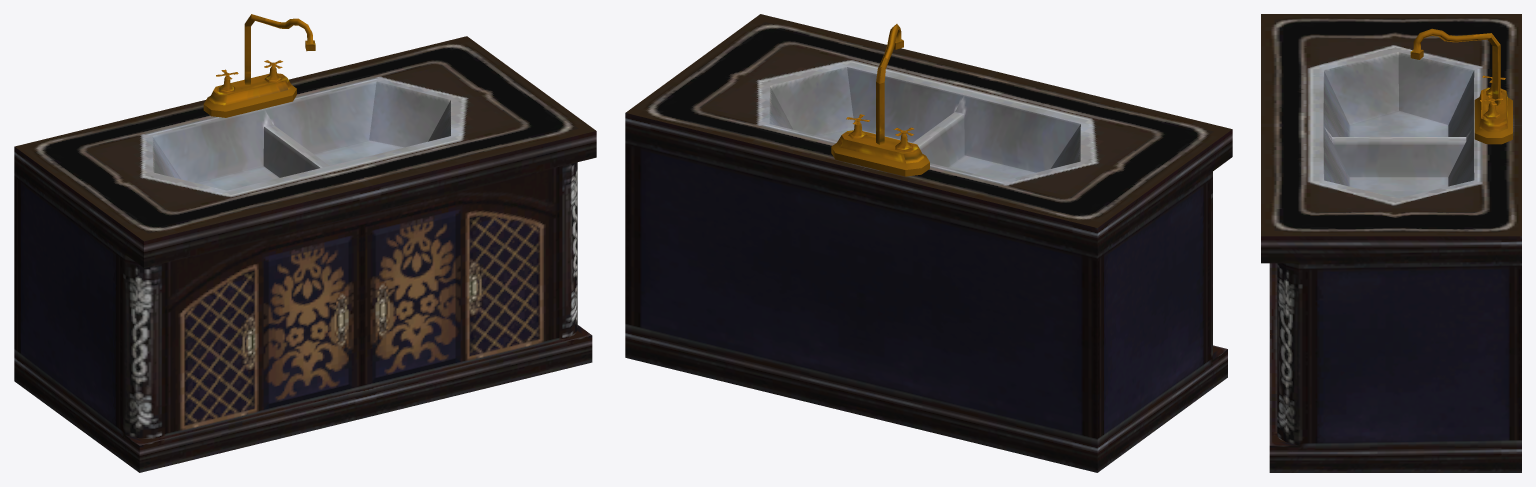
The model's file is furni_0201225.FBX.
3 renders of one model, left to right at view 1: azimuth 30°, elevation 25°; view 2: azimuth 150°, elevation 25°; view 3: azimuth 270°, elevation 25°, orthographic. The views are drawn at different scales.
Visible parts, largest first — view 1: furni_0201225; view 2: furni_0201225; view 3: furni_0201225.
Boxes of the visible parts, left/top/right/bottom form: furni_0201225: left=14, top=14, right=596, bottom=472; furni_0201225: left=625, top=14, right=1232, bottom=472; furni_0201225: left=1261, top=14, right=1521, bottom=472.
Bounding box in the file's own units: 161 × 115 × 80.
Materials: 1 (1 with a texture image).
